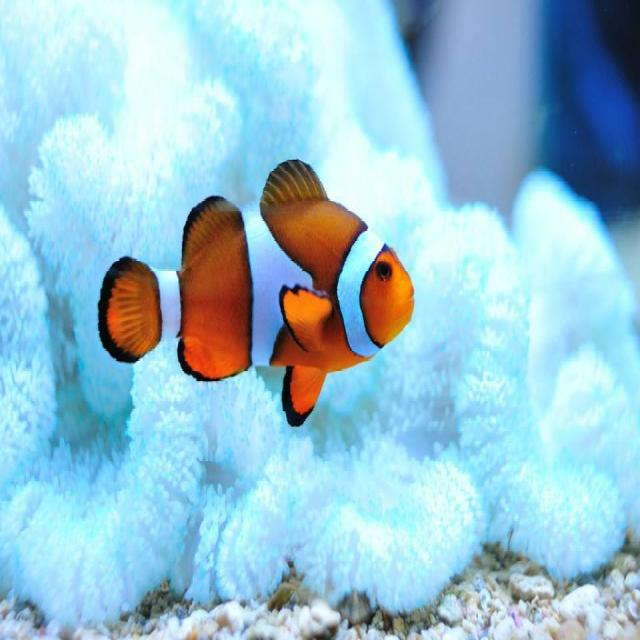ClownFish: (100, 152, 415, 418)
